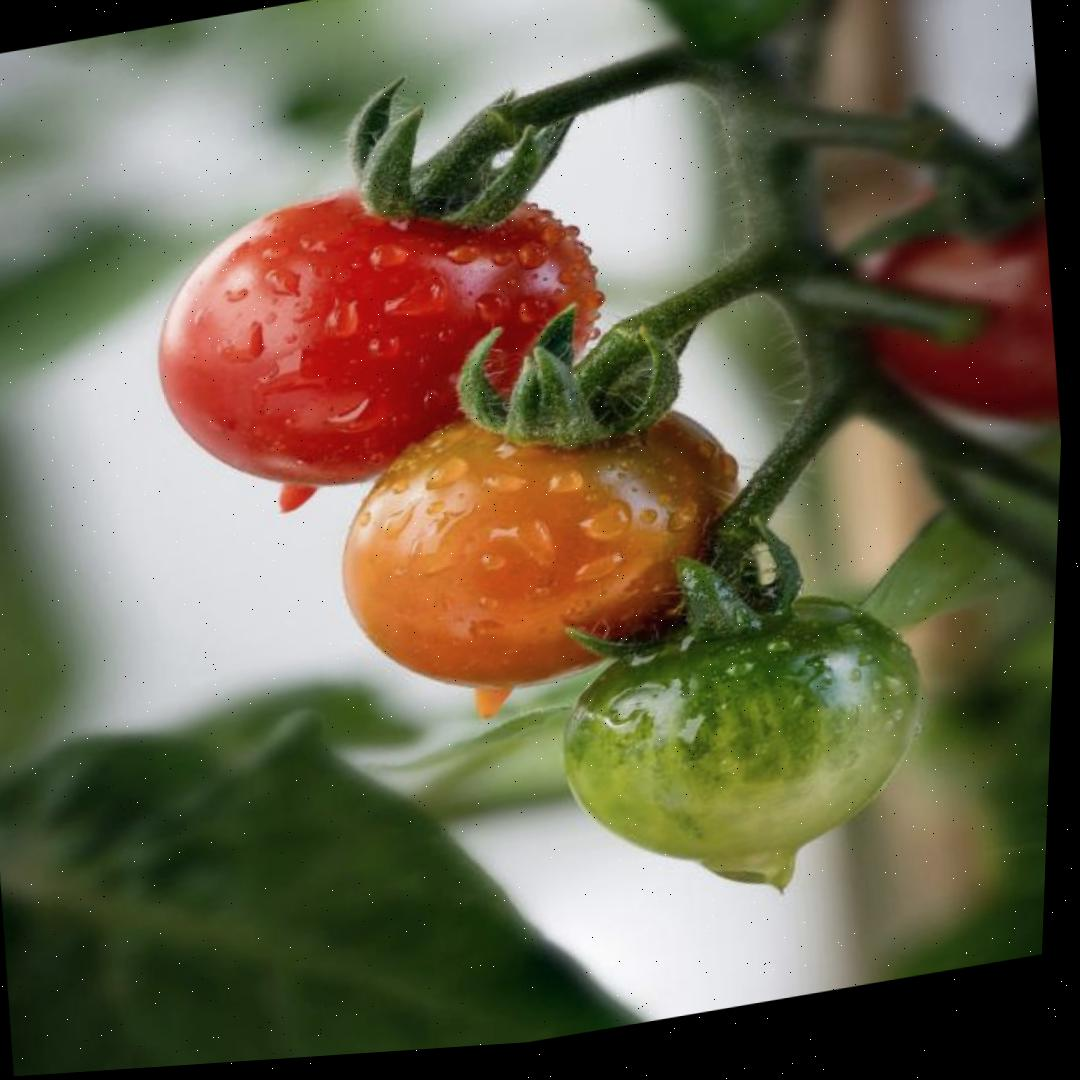matang: (138, 146, 627, 523)
mentah: (540, 576, 942, 893)
setengah_matang: (319, 358, 759, 721)
